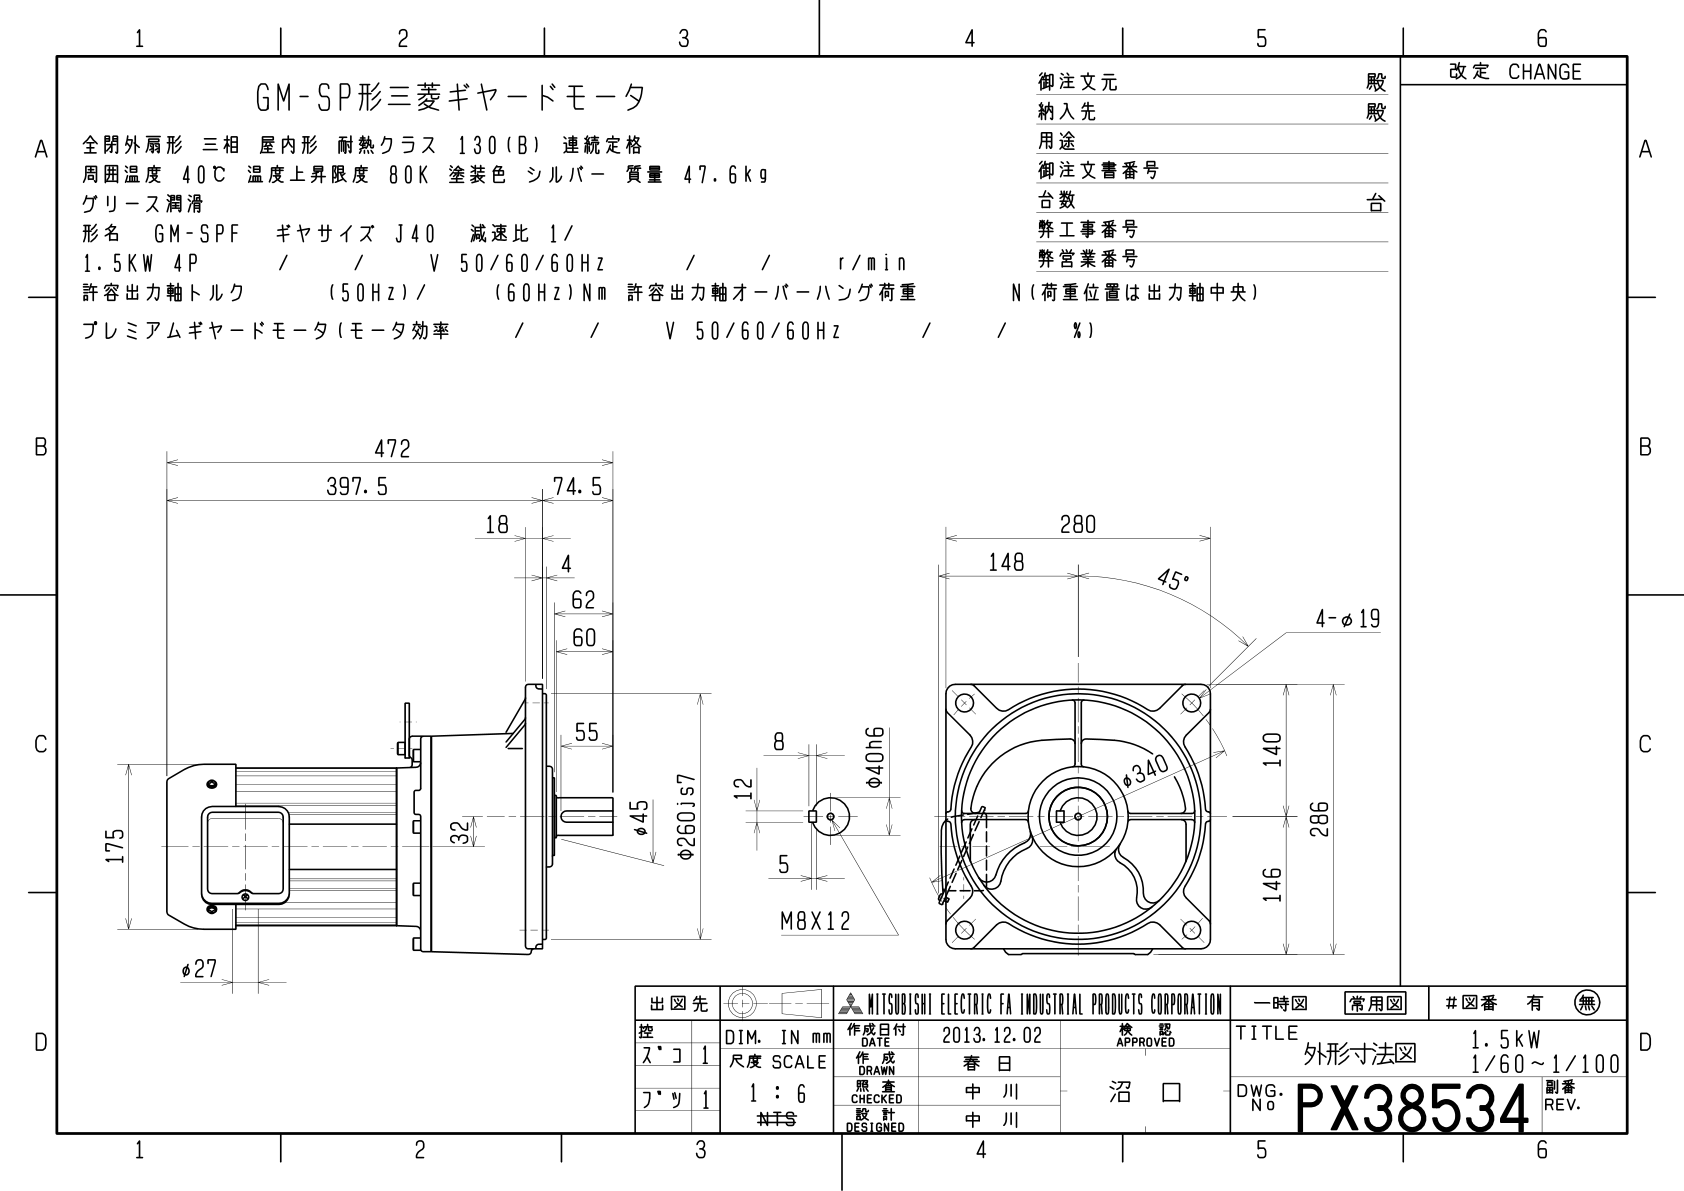GM_SP_屋内＿三相_フランジ: (12, 6, 1684, 1191)
